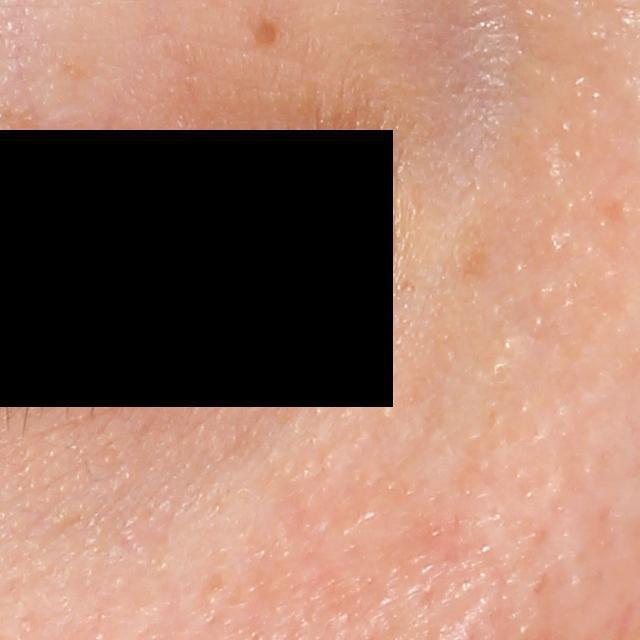melasma: (455, 223, 488, 288), (246, 4, 286, 54)
